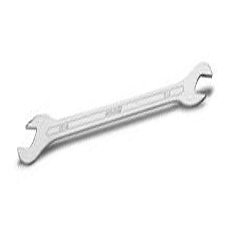Wrench: (11, 58, 225, 168)
